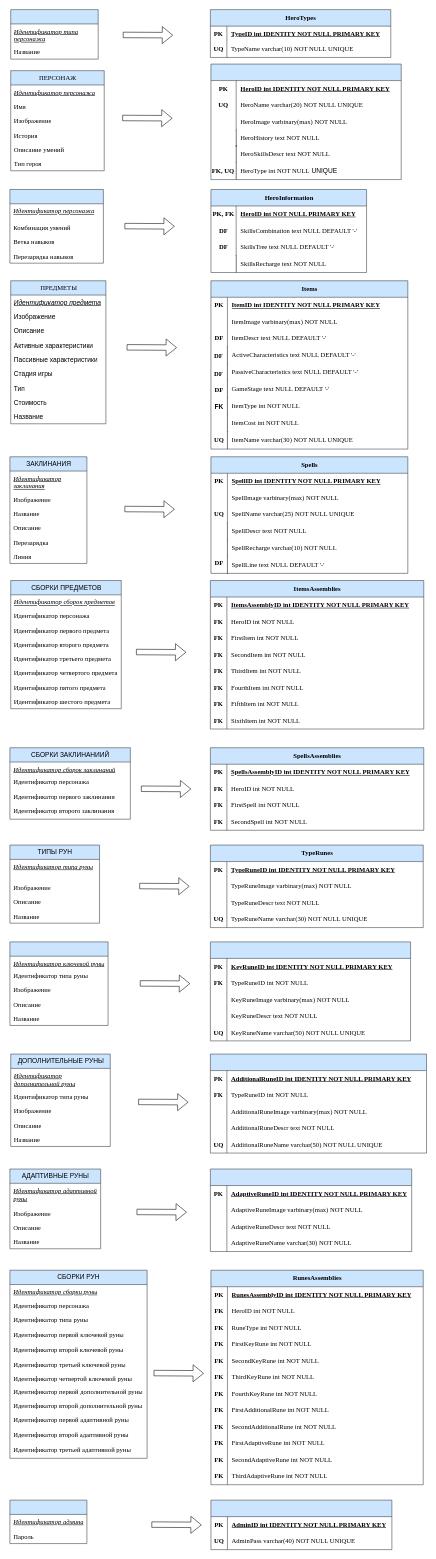
This 436x1559 diagram has some shape labels left out. The box of each missing label's shape, as (x1, y1, x2, y2) in pixels:
AdaptiveRunes: (210, 1168, 412, 1252)
AdditionalRunes: (210, 1054, 427, 1153)
Admins: (210, 1500, 392, 1550)
Heroes: (210, 64, 401, 180)
KeyRunes: (210, 941, 411, 1041)
АДМИНЫ: (9, 1500, 87, 1544)
КЛЮЧЕВЫЕ РУНЫ: (9, 941, 108, 1025)
СВЕДЕНИЯ: (9, 189, 103, 263)
ТИПЫ ПЕРСОНАЖА: (10, 9, 98, 59)
